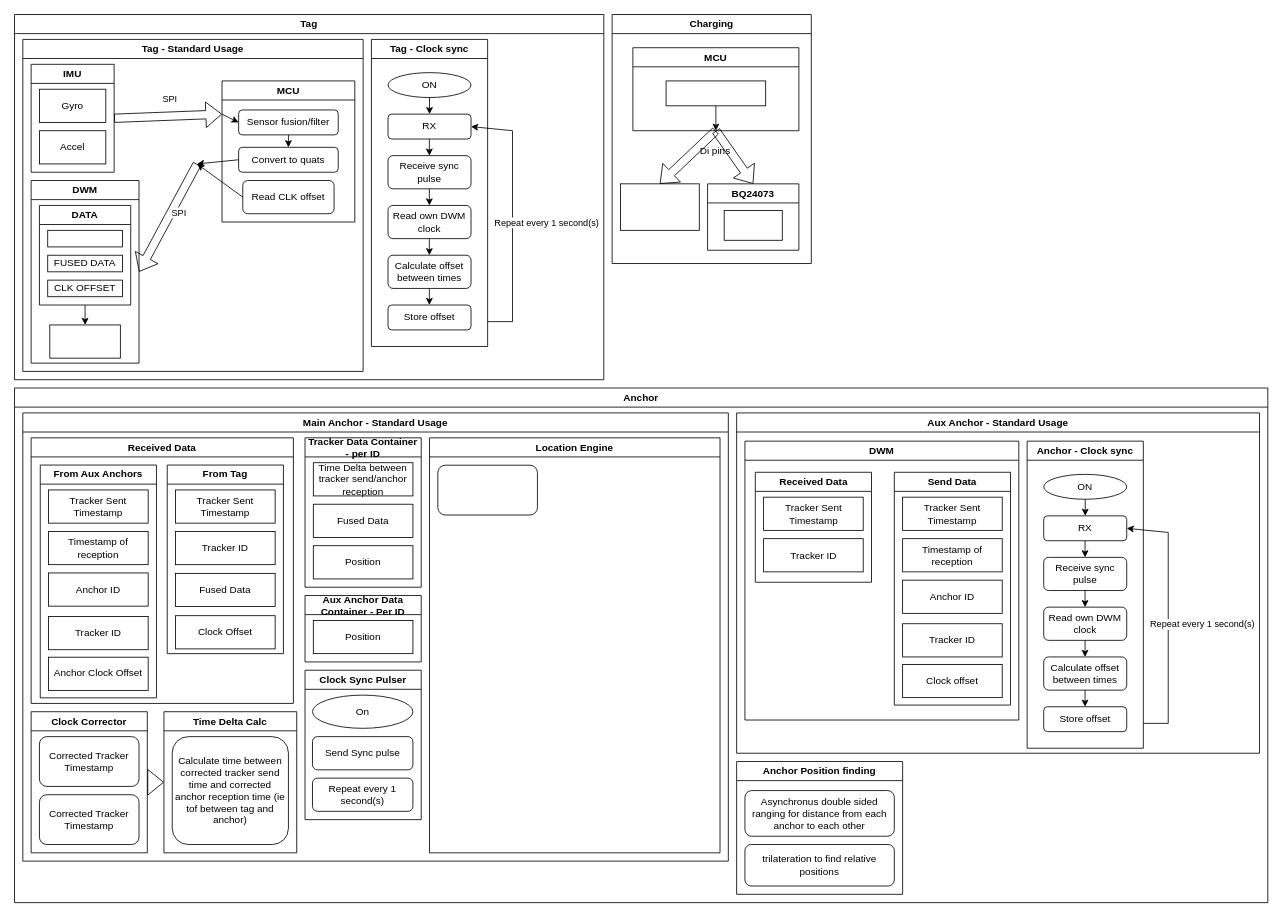
Some shapes in this 1282 by 917 pixel diagram are drawn without their labels. The centre of each missing label's shape, as x and y in pixels:
Battery read: [715,93]
Charge rate control: [752,225]
Indicator LEDs: [659,206]
TAG ID: [84,238]
TDOA stuff: [487,489]
TX: [84,341]
